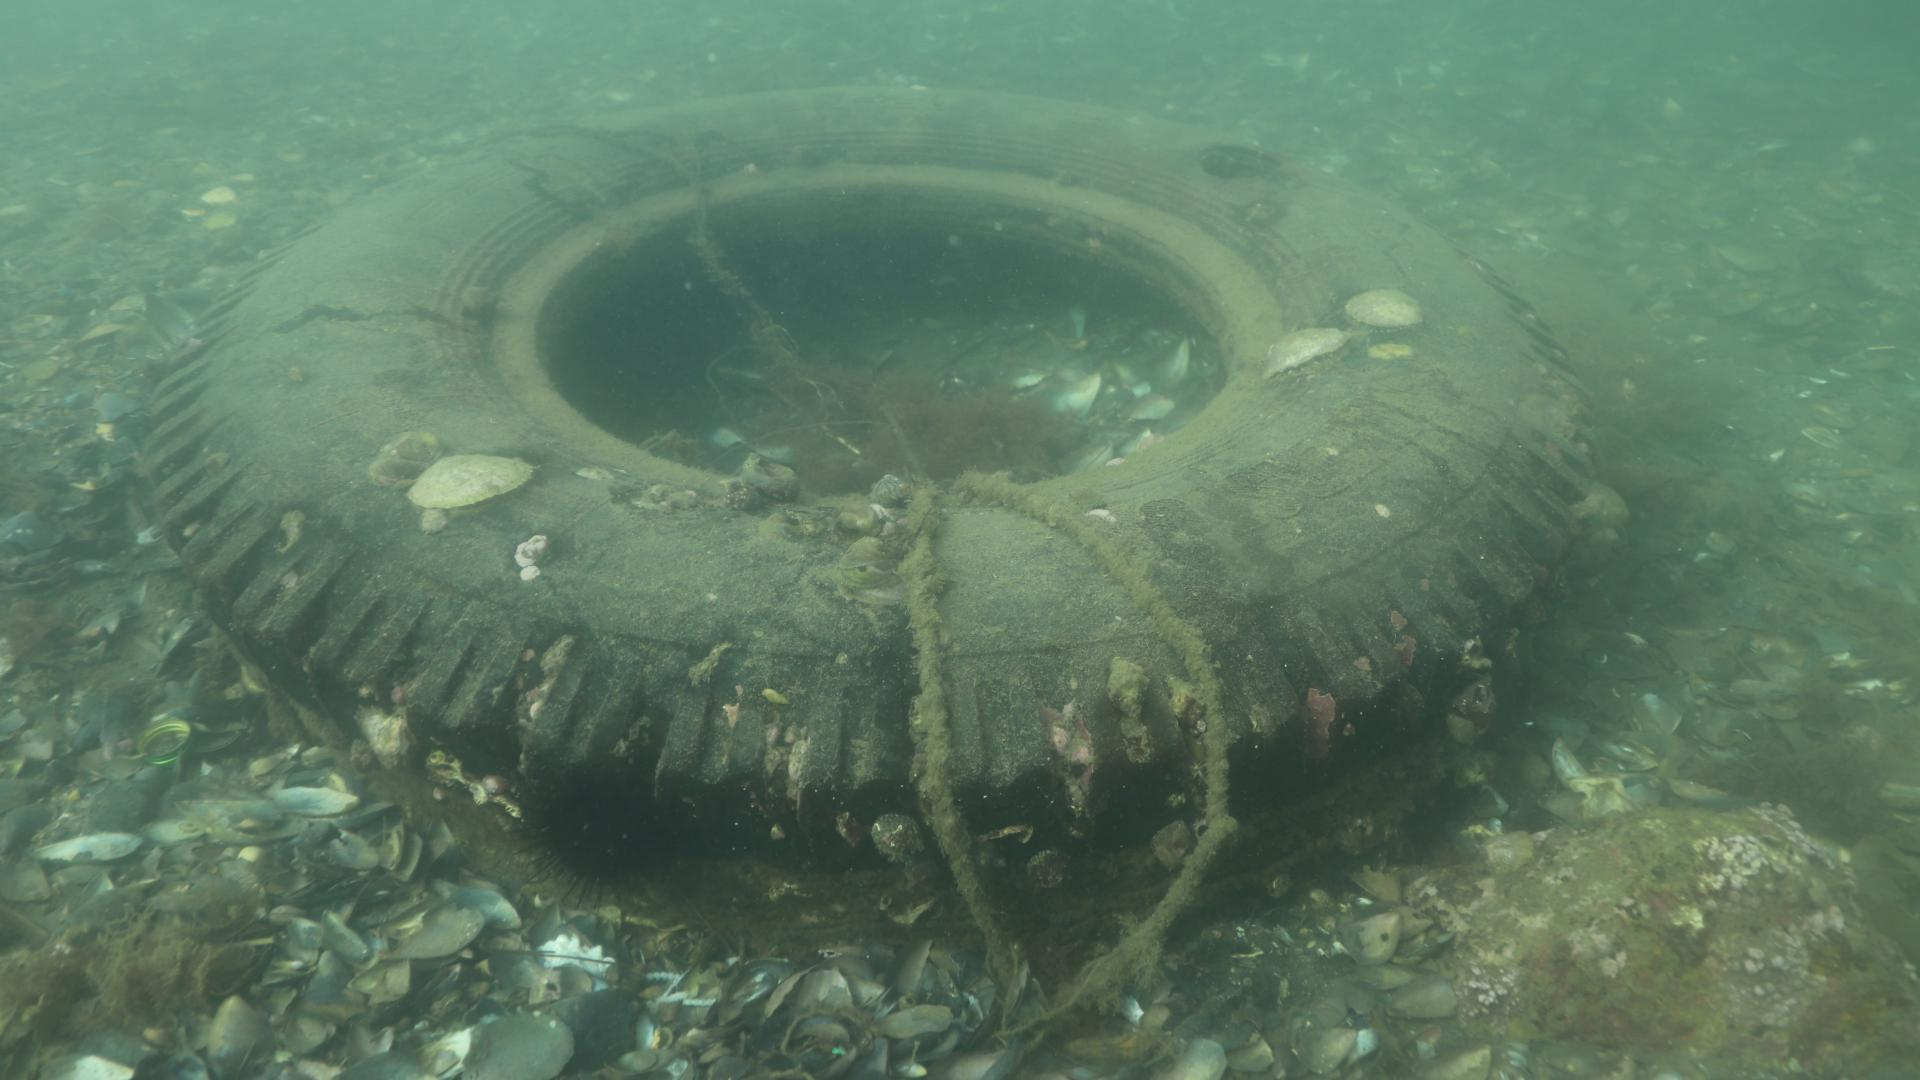bundle of ropes: (899, 468, 1234, 986)
tire: (142, 84, 1590, 930)
